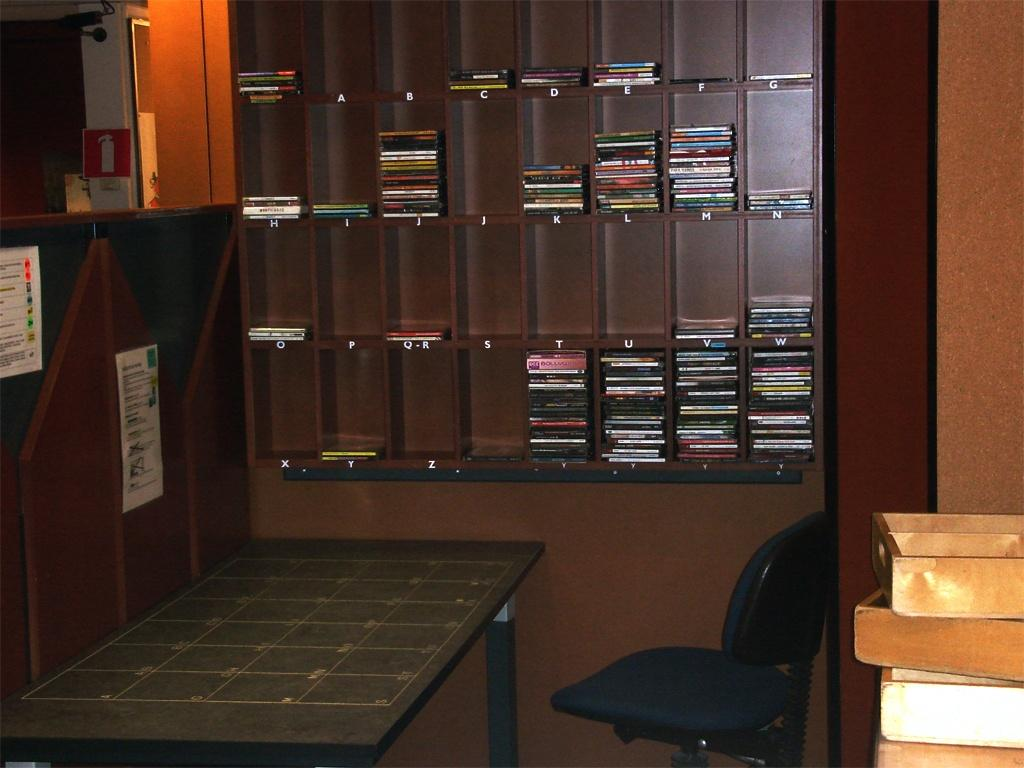Kursi: (549, 510, 833, 767)
Meja: (0, 538, 546, 767)
Rak: (227, 0, 822, 470)
